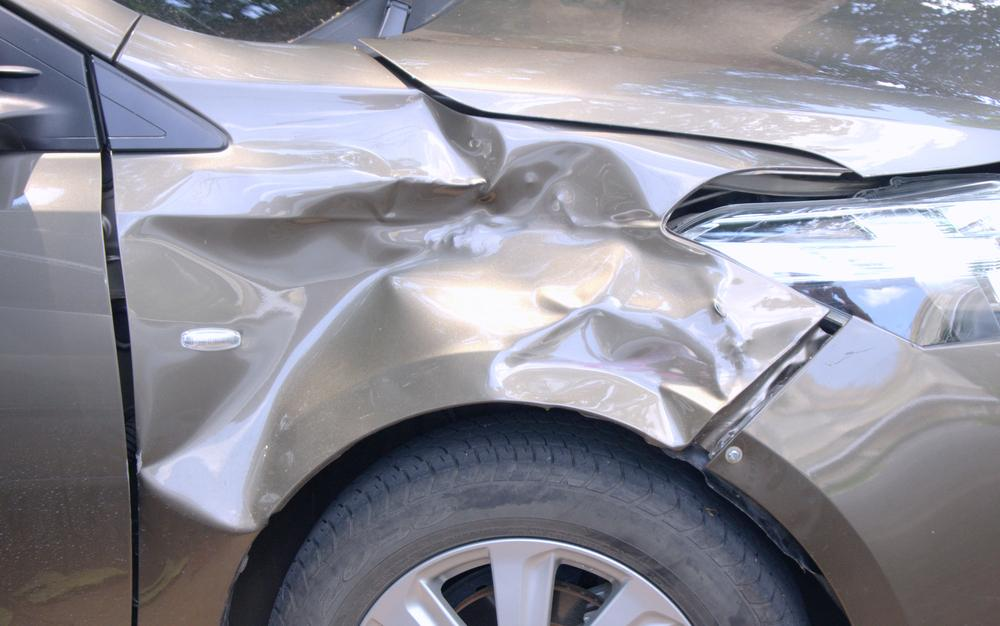dent: (119, 99, 839, 533)
